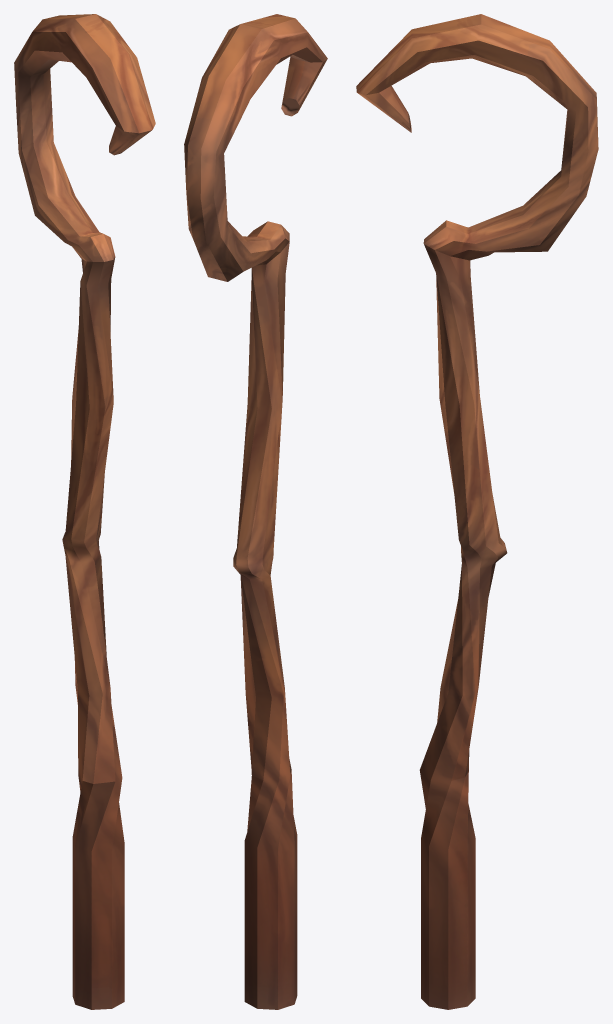
The model's file is staff_wood 2.fbx.
3 views of the same model, side by side, from view 1: azimuth 30°, elevation 25°; view 2: azimuth 150°, elevation 25°; view 3: azimuth 270°, elevation 25° (orthographic).
Parts seen in each view (by area): view 1: staff_wood; view 2: staff_wood; view 3: staff_wood.
Boxes of the visible parts, bbox=[...] form: staff_wood: bbox=[14, 14, 155, 1009]; staff_wood: bbox=[184, 14, 327, 1009]; staff_wood: bbox=[356, 14, 598, 1009].
Bounding box in the file's own units: 8.06 × 148 × 33.12.
